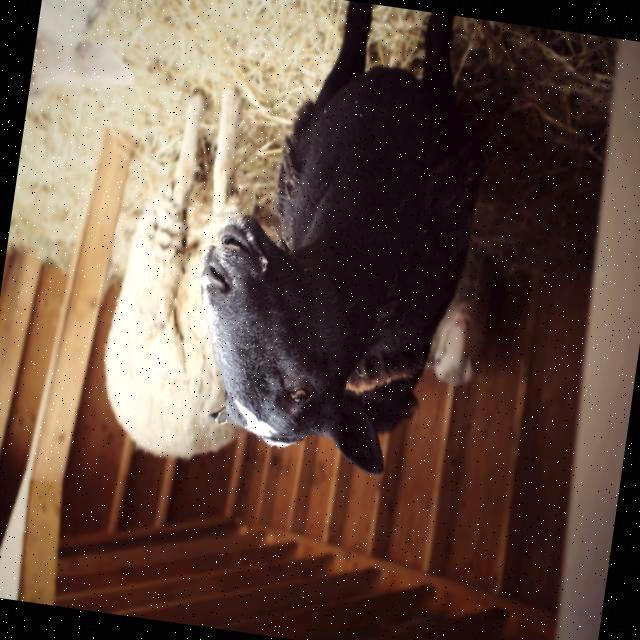sheep: (204, 5, 479, 474), (105, 103, 241, 460), (427, 259, 489, 386)
